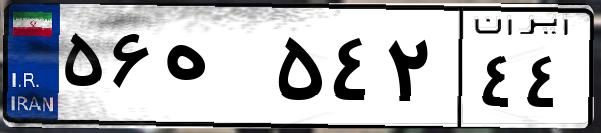2: (385, 28, 445, 110)
4: (330, 28, 385, 110), (475, 38, 525, 113), (525, 38, 570, 115)
5: (270, 28, 330, 110), (57, 26, 110, 100)
6: (110, 28, 158, 98)
ه: (158, 20, 270, 120)
